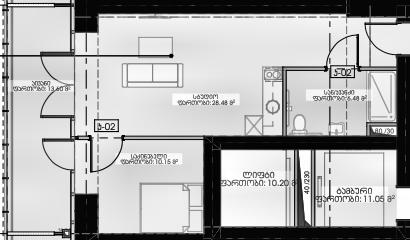door: (320, 33, 361, 73), (86, 133, 125, 175), (362, 20, 404, 58), (39, 137, 78, 173), (38, 51, 75, 86), (39, 85, 75, 120)
